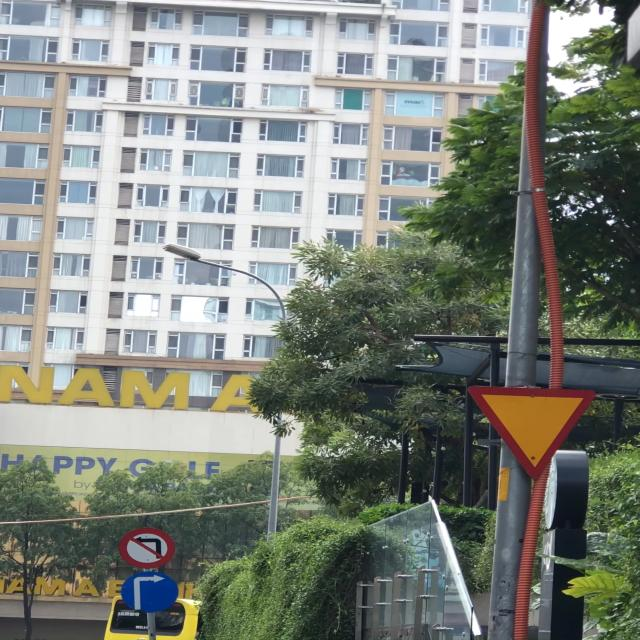Bien bao cam re trai: (119, 526, 175, 569)
Bien bao huong di phai theo: (462, 380, 600, 480), (118, 568, 183, 616)
